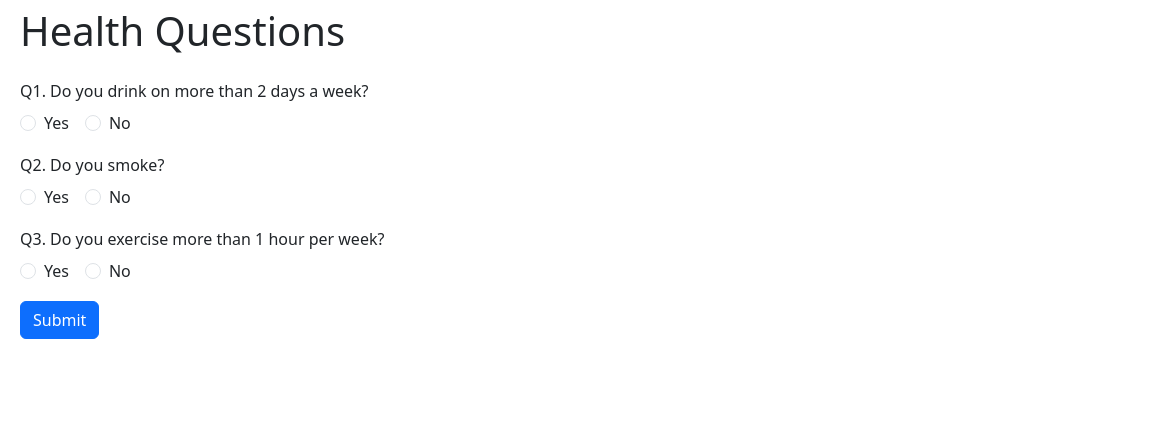
Scenario: Assessment component › shows info message for healthy responses
Click the 1st radio button labelled "Yes" at (28, 123), box [20,115,36,131]
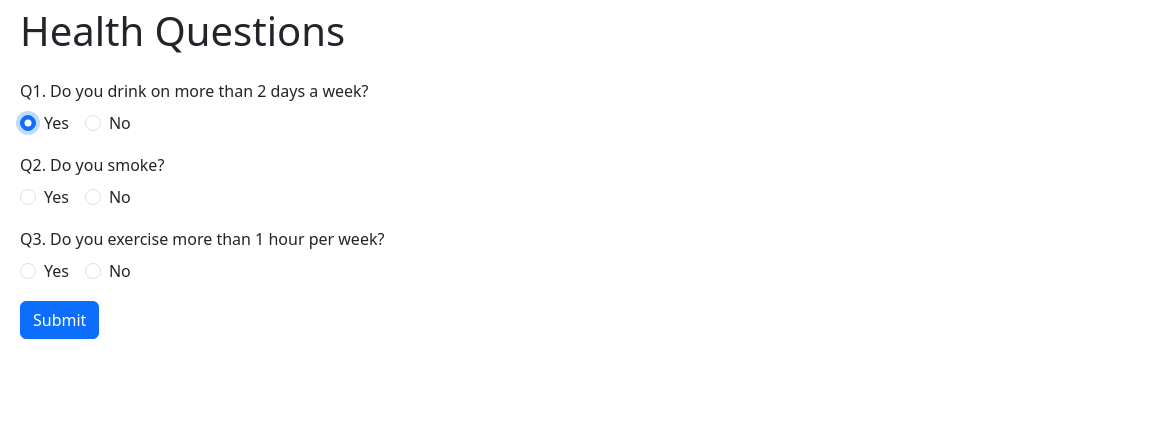
Click the radio button labelled "Yes" below "Q2. Do you smoke?" at (28, 197), box [20,189,36,205]
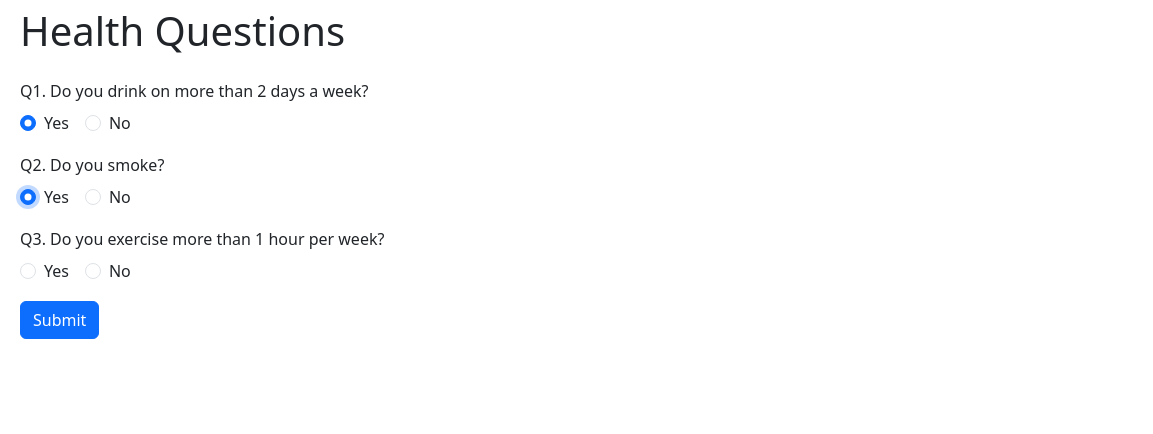
Click the 3rd radio button labelled "Yes" at (28, 271), box [20,263,36,279]
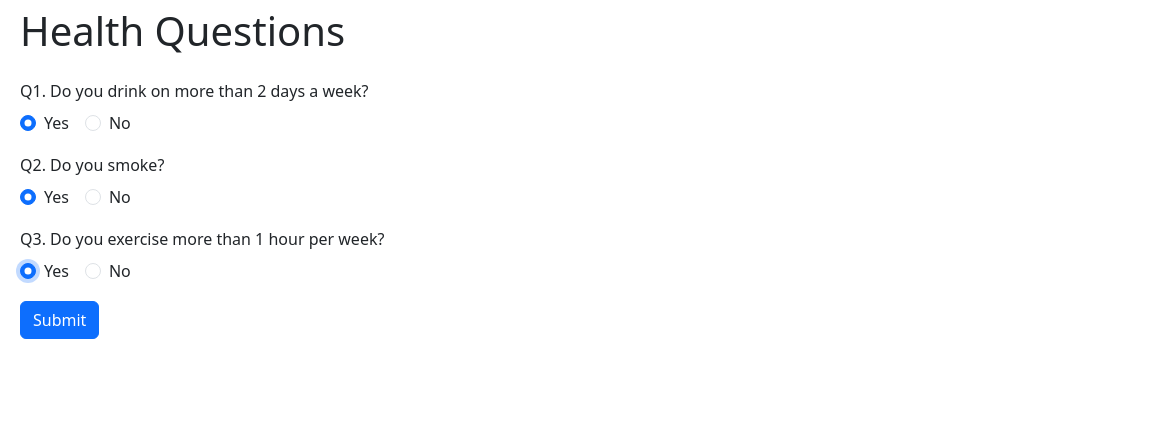
Click the button "Submit" at (60, 320), box [20,301,99,339]
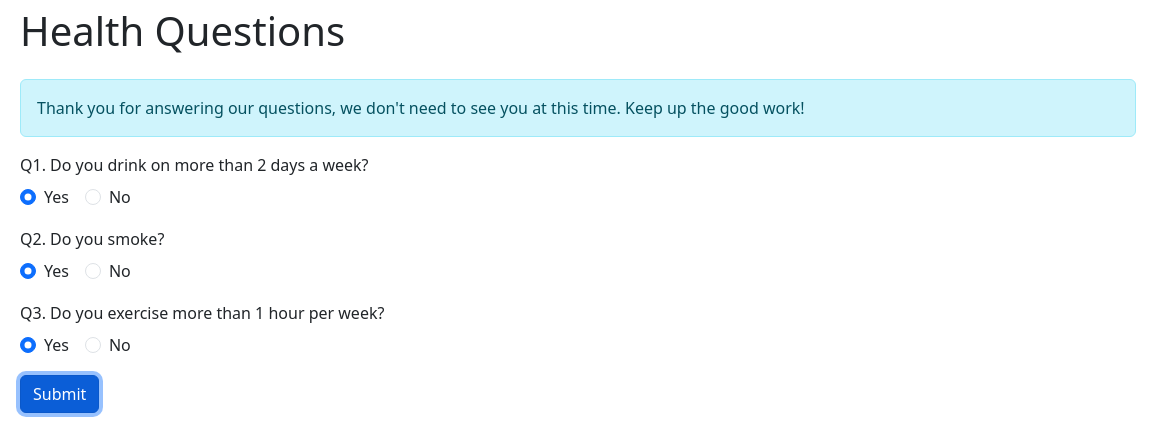
Expected: the text "Thank you for answering our questions, we don't need to see you" is shown, [37,97,805,119]
